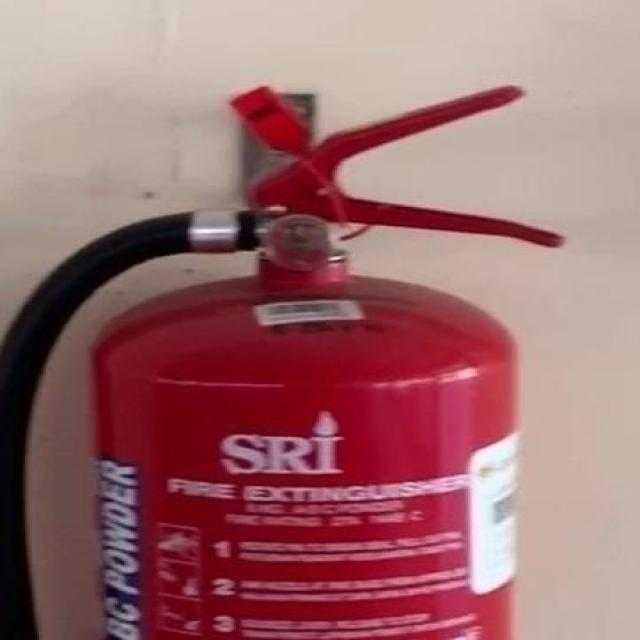fire_extinguisher: (0, 77, 571, 638)
